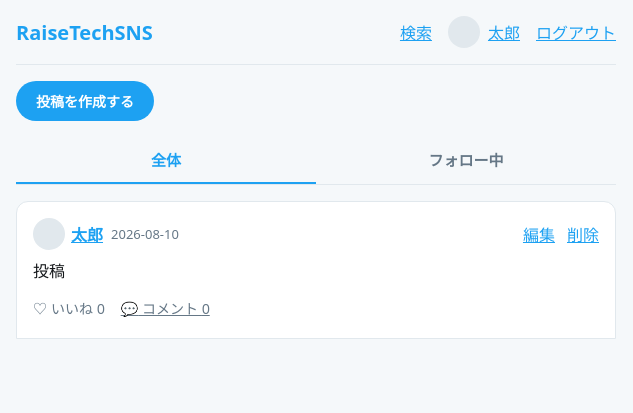
Scenario: TimelineScreen › いいねAPIが失敗すると表示がロールバックされる
The image size is (633, 413).
Check: the text "投稿" is shown, box [33, 260, 65, 282]
Step 1. Click the button "♡ いいね 0" → (69, 308), box [33, 294, 105, 322]
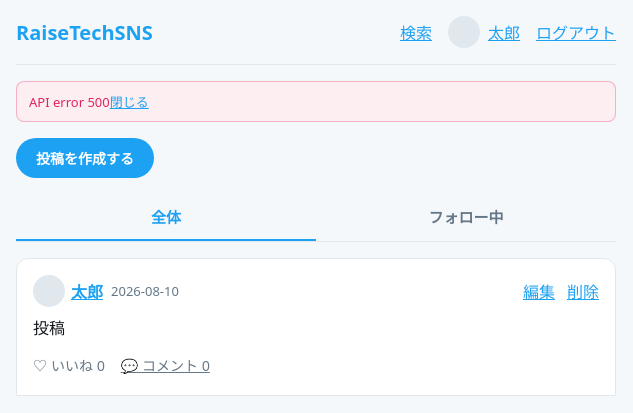
Check: the message "API error 500 閉じる" is shown, box [16, 81, 616, 122]
